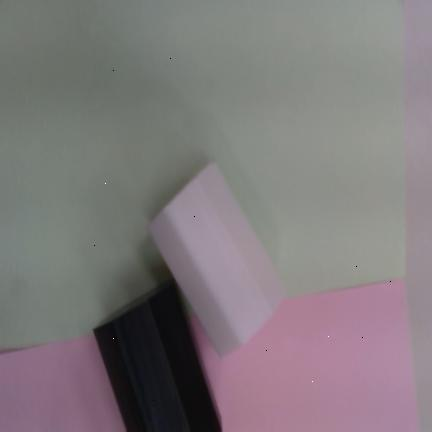Prisma_hexagonal: (146, 160, 285, 360), (92, 283, 222, 432)
